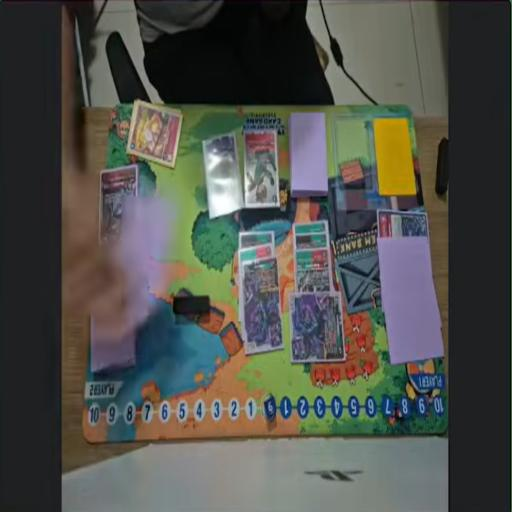card: (241, 256, 283, 354), (289, 293, 346, 362), (127, 100, 183, 168), (203, 132, 244, 218), (100, 165, 138, 243), (243, 128, 279, 208), (238, 244, 274, 323), (295, 251, 333, 296), (377, 209, 428, 238), (293, 233, 336, 252), (239, 231, 274, 249), (294, 221, 329, 239)
